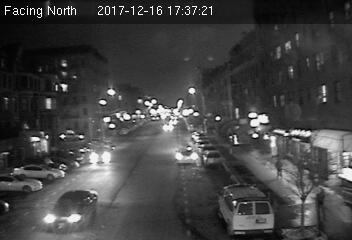car: (42, 189, 100, 229), (174, 146, 198, 166), (90, 147, 112, 166), (202, 149, 223, 167)
police: (217, 182, 274, 235)
